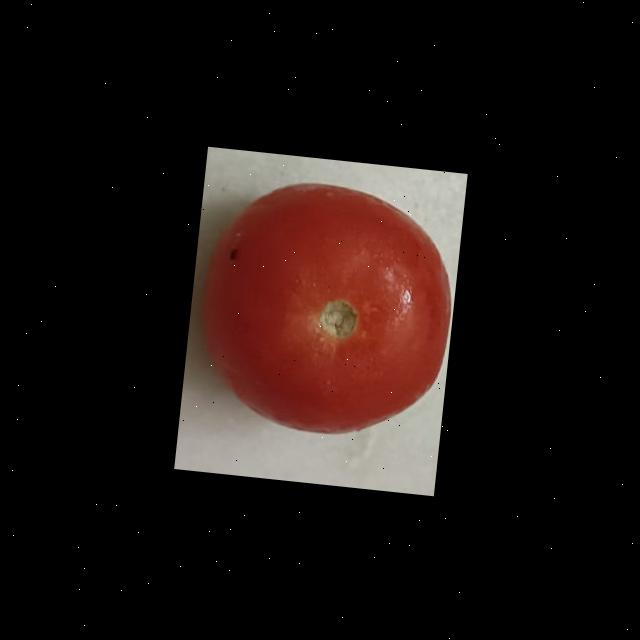tomato: (188, 160, 466, 462)
